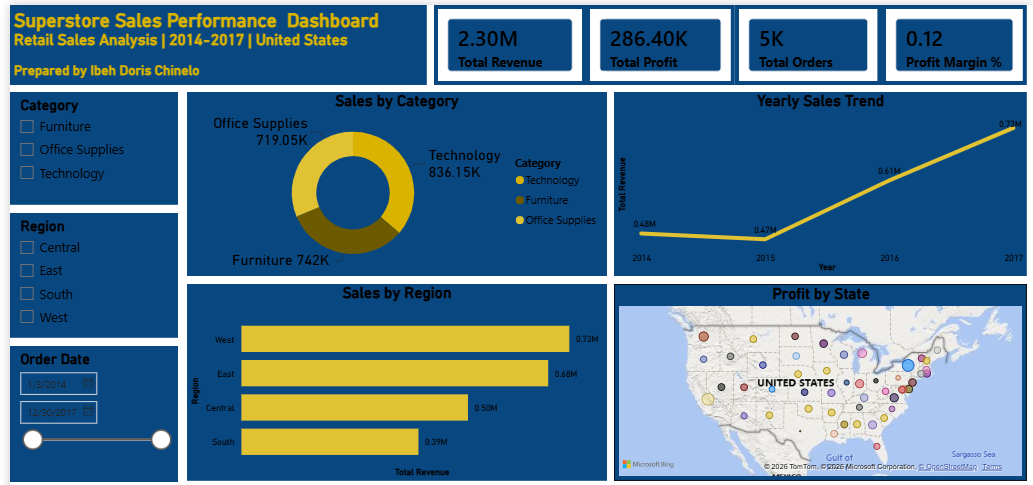

Layout of this report page (visuals, bound fields, positions):
{"tool":"powerbi","page":{"name":"Dashboard","canvas":[1280,720],"ordinal":0},"visuals":[{"type":"barChart","title":"Sales by Region","fields":{"Category":[" Superstore.Region"," Superstore.State"],"Y":[" Superstore.Total Revenue"]},"box":[221.2,348.8,525,246.2],"z":0},{"type":"textbox","box":[0,0,521.2,100],"z":1000},{"type":"donutChart","title":"Sales by Category","fields":{"Category":[" Superstore.Category"],"Y":[" Superstore.Total Revenue"]},"box":[221.2,108.8,525,230],"z":2000},{"type":"lineChart","title":"Yearly Sales Trend","fields":{"Category":[" Superstore.Order Date.Variation.Date Hierarchy.Year"],"Y":[" Superstore.Total Revenue"]},"box":[755,108.8,516.2,230],"z":3000},{"type":"map","title":" Profit by State","fields":{"Category":[" Superstore.State"],"Size":[" Superstore.Total Profit"]},"box":[755,348.8,516.2,246.2],"z":4000},{"type":"cardVisual","fields":{"Data":[" Superstore.Total Revenue"]},"box":[530,0,190,100],"z":5000},{"type":"cardVisual","fields":{"Data":[" Superstore.Total Profit"]},"box":[720,0,186.2,100],"z":6000},{"type":"cardVisual","fields":{"Data":[" Superstore.Total Orders"]},"box":[906.2,0,183.8,100],"z":7000},{"type":"cardVisual","fields":{"Data":[" Superstore.Profit Margin %"]},"box":[1090,0,181.2,100],"z":8000},{"type":"slicer","fields":{"Values":[" Superstore.Category"]},"box":[0,108.8,210,141.2],"z":9000},{"type":"slicer","fields":{"Values":[" Superstore.Region"]},"box":[0,260,210,156.2],"z":10000},{"type":"slicer","fields":{"Values":[" Superstore.Order Date"]},"box":[0,426.2,210,168.8],"z":11000}]}

Visuals, with their boxes on the page's 1280x720 design canvas (x1, y1, x2, y2). These are canvas units, not pixel positions in the 1033x485 screenshot, which may show the page scaled, cropped or inside an application window:
"Sales by Region" barChart: crop(221, 349, 746, 595)
textbox: crop(0, 0, 521, 100)
"Sales by Category" donutChart: crop(221, 109, 746, 339)
"Yearly Sales Trend" lineChart: crop(755, 109, 1271, 339)
" Profit by State" map: crop(755, 349, 1271, 595)
cardVisual -  Superstore.Total Revenue: crop(530, 0, 720, 100)
cardVisual -  Superstore.Total Profit: crop(720, 0, 906, 100)
cardVisual -  Superstore.Total Orders: crop(906, 0, 1090, 100)
cardVisual -  Superstore.Profit Margin %: crop(1090, 0, 1271, 100)
slicer -  Superstore.Category: crop(0, 109, 210, 250)
slicer -  Superstore.Region: crop(0, 260, 210, 416)
slicer -  Superstore.Order Date: crop(0, 426, 210, 595)
